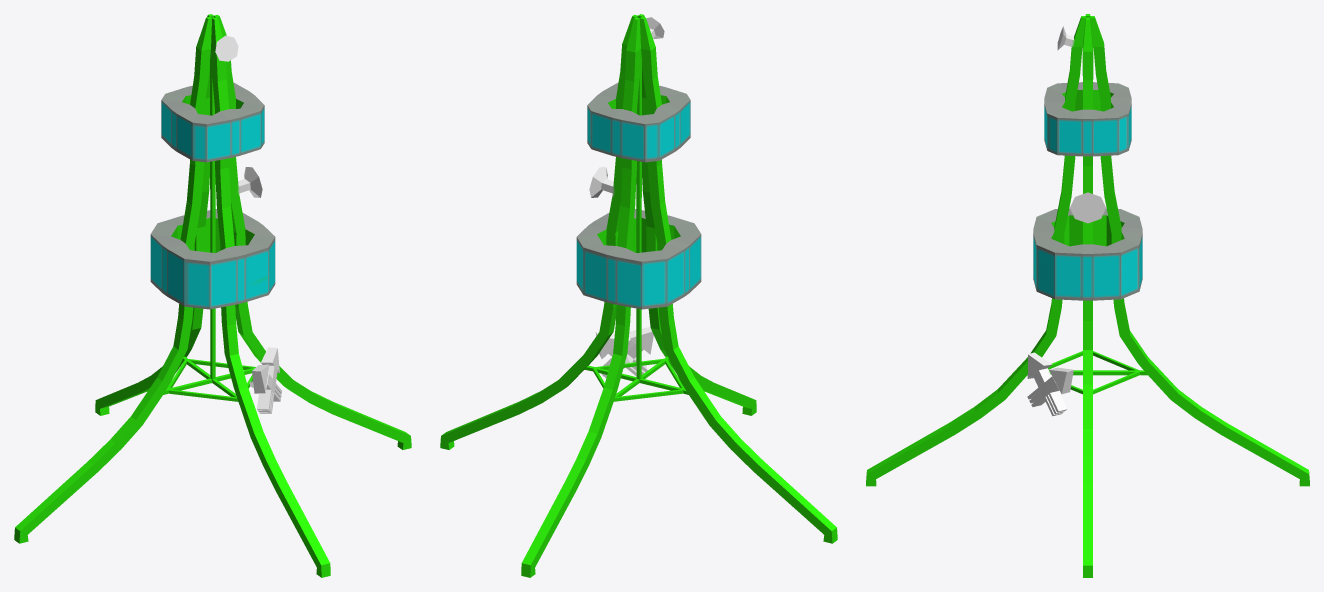
The model's file is inkopolis_tower.fbx.
3 views of the same model, side by side, from view 1: azimuth 30°, elevation 25°; view 2: azimuth 150°, elevation 25°; view 3: azimuth 270°, elevation 25° (orthographic). The views are drawn at different scales.
Visible parts, largest first — view 1: Tower; view 2: Tower; view 3: Tower.
Part boxes in pixels (x1,y1,x2,y2): Tower: (14,14,411,577); Tower: (440,14,837,577); Tower: (866,14,1309,577).
Size of the model in its own units: 4300 by 4995 by 4300.
